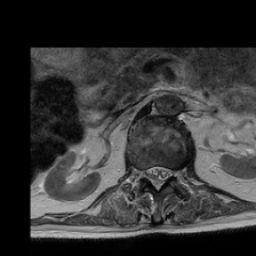CCS_normal: (154, 161, 161, 195)
LFS_normal: (171, 163, 177, 183)
LLS_normal: (162, 161, 170, 189)
RFS_normal: (139, 163, 145, 182)
RLS_normal: (146, 161, 154, 189)
